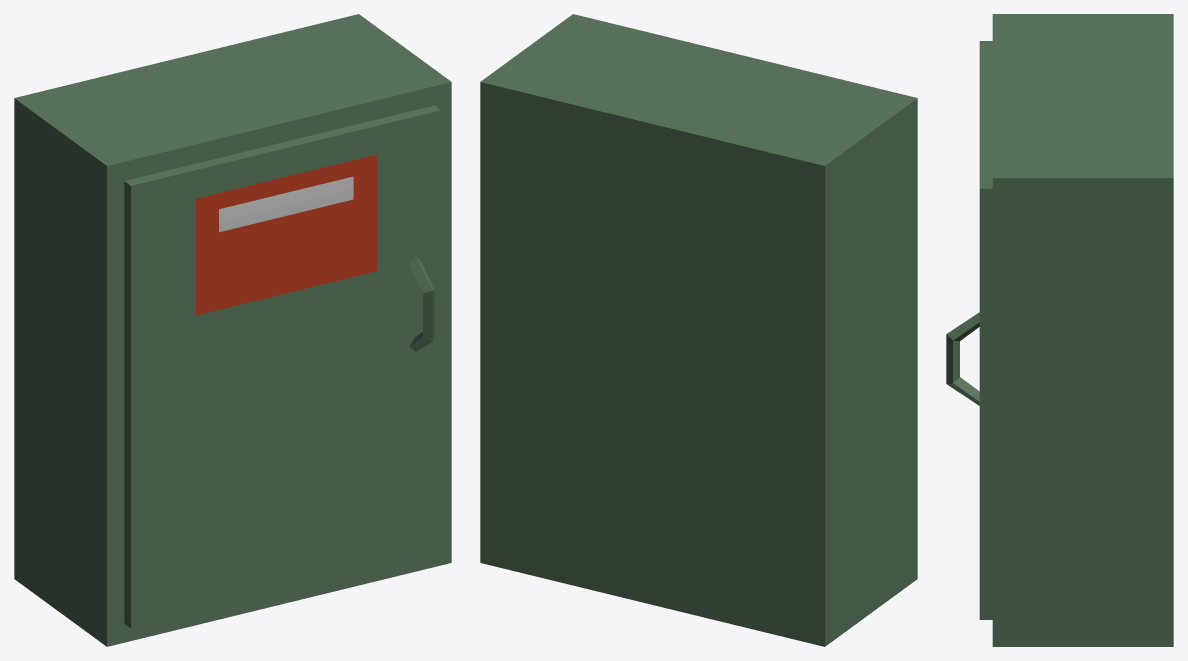
The model's file is SM_Electric_Box.FBX.
3 views of the same model, side by side, from view 1: azimuth 30°, elevation 25°; view 2: azimuth 150°, elevation 25°; view 3: azimuth 270°, elevation 25° (orthographic). The views are drawn at different scales.
Parts seen in each view (by area): view 1: SM_Electric_Box; view 2: SM_Electric_Box; view 3: SM_Electric_Box.
Part boxes in pixels (box(x1,y1,x2,y2)): SM_Electric_Box: box(14, 14, 451, 646); SM_Electric_Box: box(480, 14, 917, 646); SM_Electric_Box: box(946, 14, 1173, 646).
Size of what is drawn, in the model's own units: 90 by 52.72 by 120.
